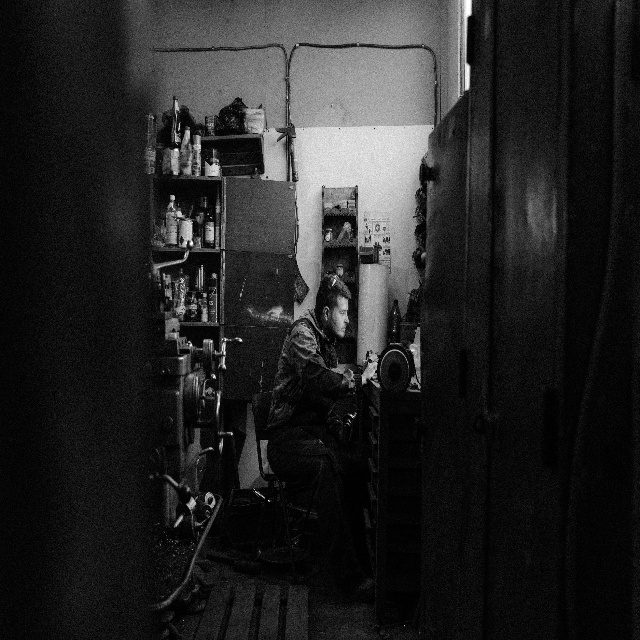Gafas: (322, 274, 340, 308)
Guantes: (367, 354, 381, 365)
Sin_guantes: (360, 359, 380, 385)
